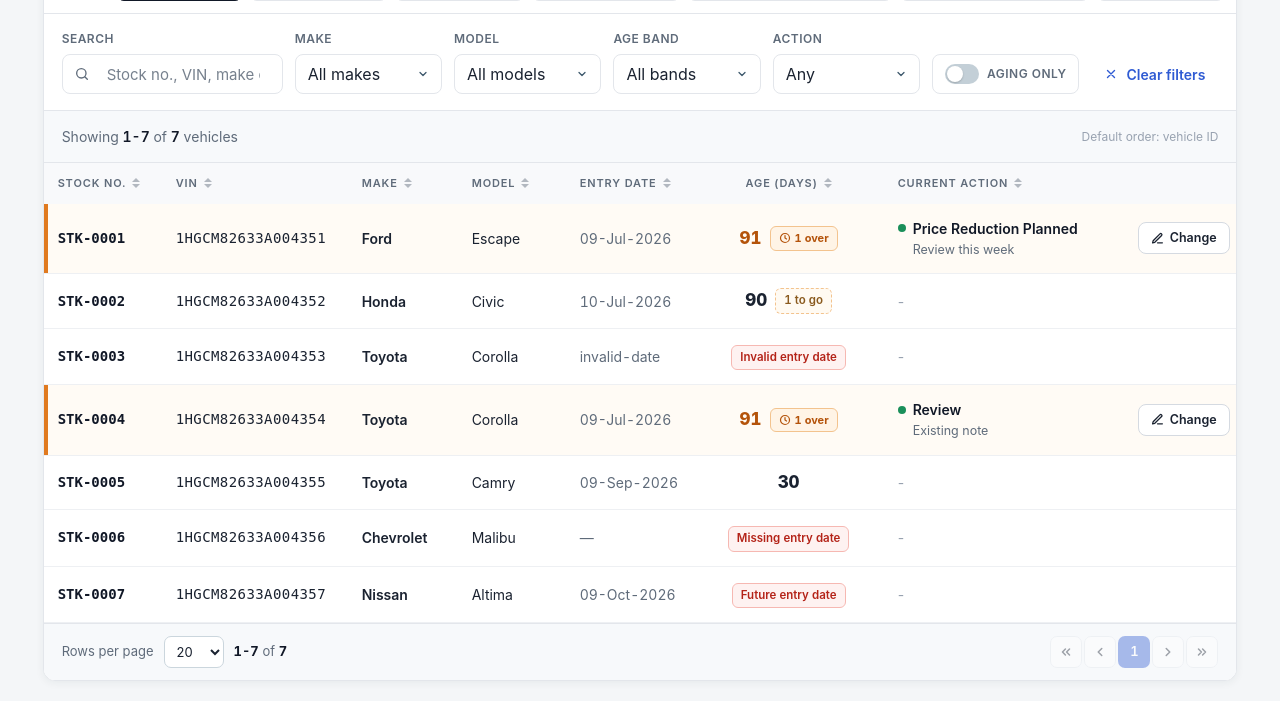
Test: App › keeps the previous action on save failure and retries the replacement
(page scrolled)
Click the button "Change" next to "Existing note": (1184, 420) [1138, 404, 1230, 436]
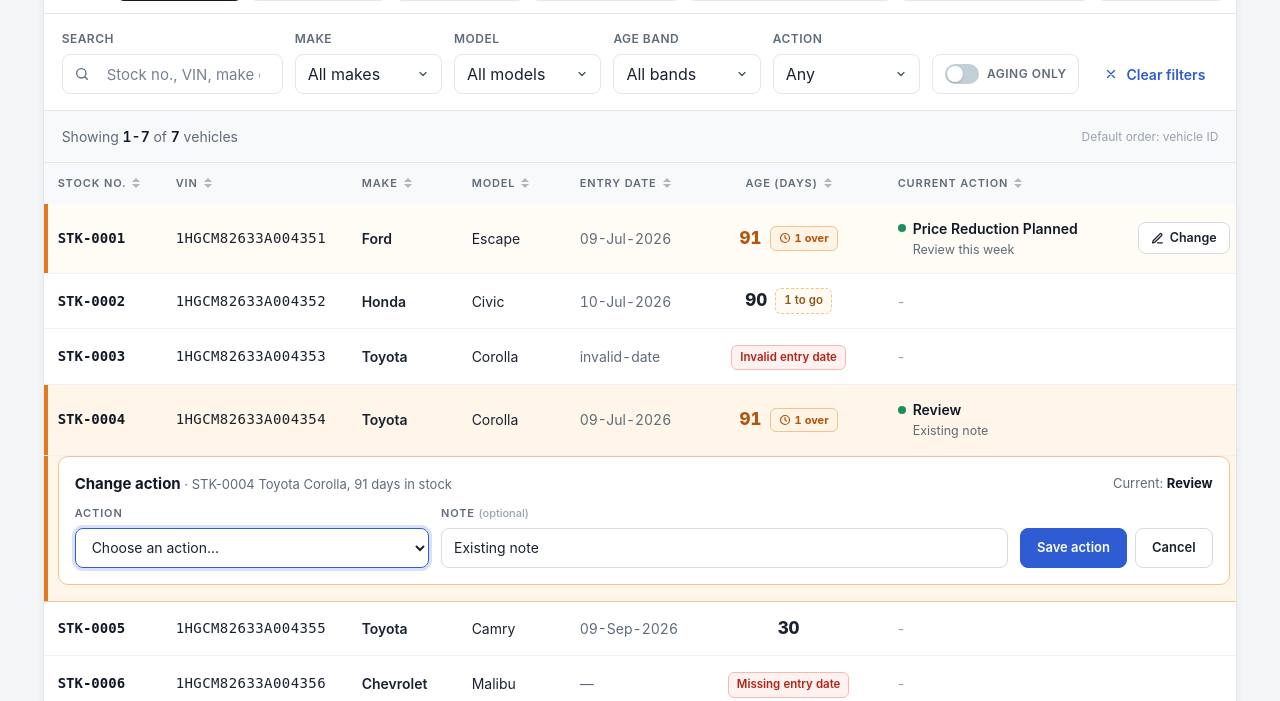
Select "Price Reduction Planned" in the dropdown labelled "Action" below "(optional)": (252, 548) [75, 528, 429, 568]
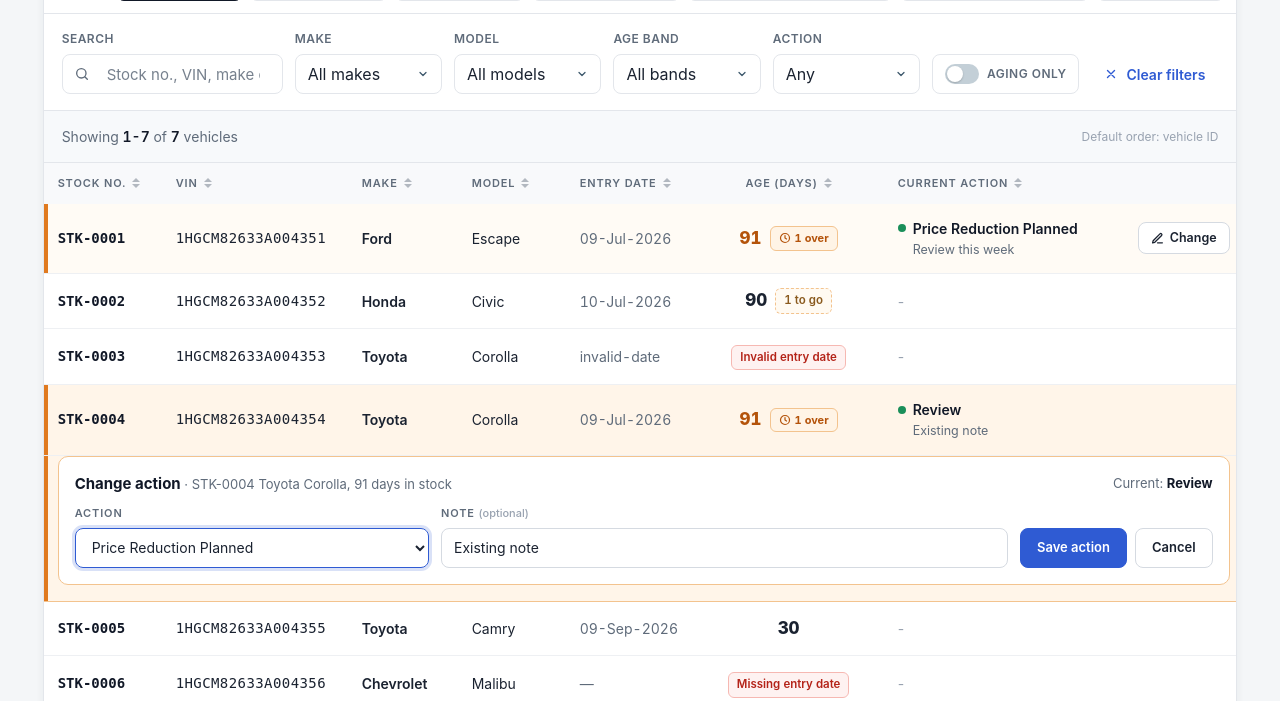
Replace the text in the field labelled "Note (optional)" with "New plan": (724, 548) [441, 528, 1008, 568]
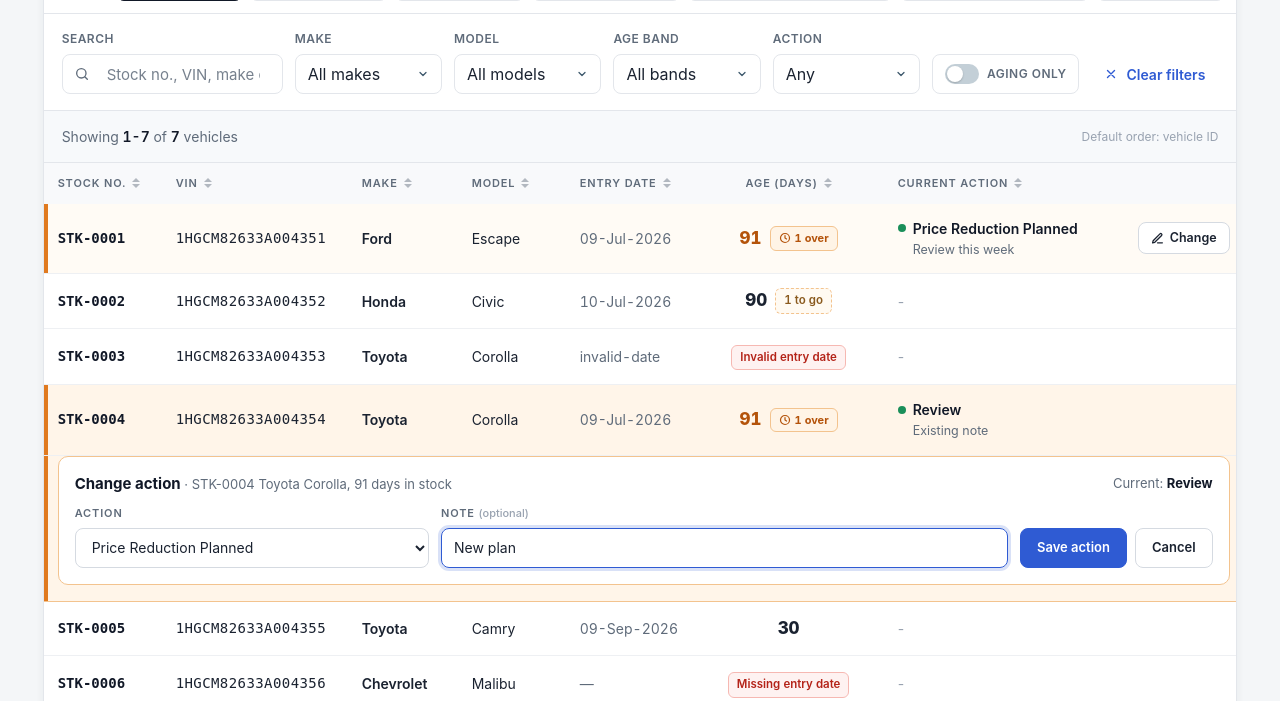
Click the button "Save action": (1074, 548) [1020, 528, 1127, 568]
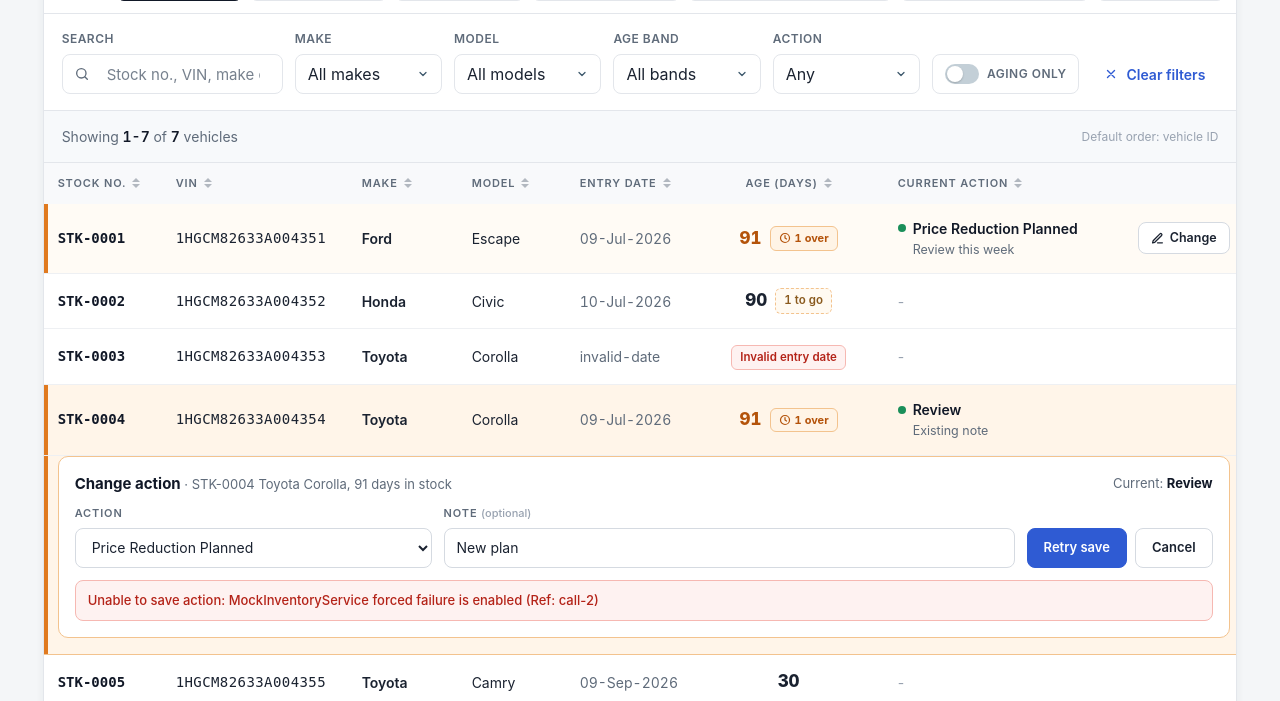
Now the 2nd message shows "MockInventoryService forced failure is enabled", box [88, 592, 599, 608]
Now the 2nd message shows "Ref: call-2", box [88, 592, 599, 608]
Now the button "Retry save" is shown
Click the button "Retry save": (1077, 548) [1027, 528, 1127, 568]
(page scrolled)
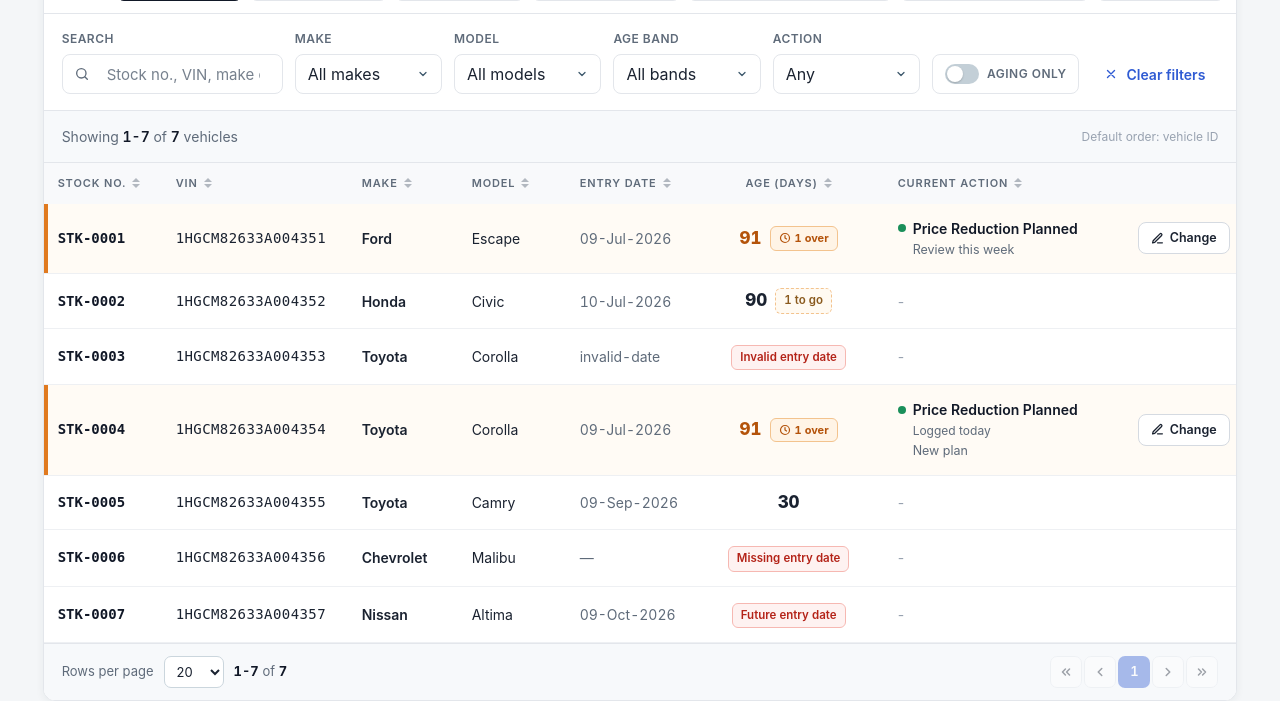
Now the row "STK-0004" shows "Price Reduction Planned", box [913, 401, 1078, 418]
Now the row "STK-0004" shows "New plan", box [913, 443, 968, 458]
Now the row "STK-0004" no longer shows "Existing note", box [44, 384, 1236, 475]
